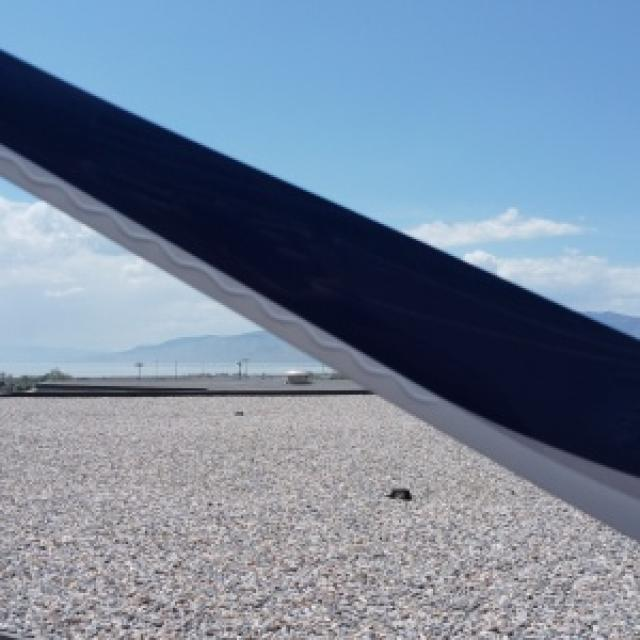healthy: (0, 397, 638, 638)
